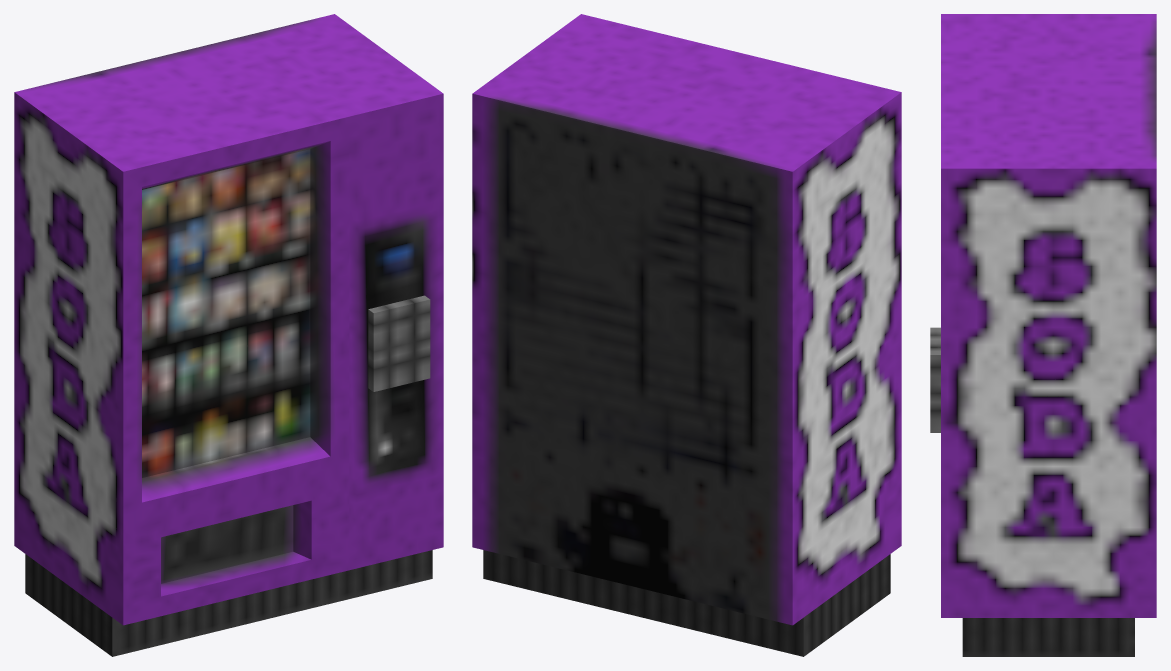
File: vending_machine.fbx
3 renders of one model, left to right at view 1: azimuth 30°, elevation 25°; view 2: azimuth 150°, elevation 25°; view 3: azimuth 270°, elevation 25°, orthographic.
Parts seen in each view (by area): view 1: вендинговый аппарат; view 2: вендинговый аппарат; view 3: вендинговый аппарат.
Boxes of the visible parts, x1,y1,x2,y2 form: вендинговый аппарат: (14,14,443,656); вендинговый аппарат: (472,14,901,656); вендинговый аппарат: (930,14,1156,656).
Size of the model in its own units: 17 by 25 by 10.5.
